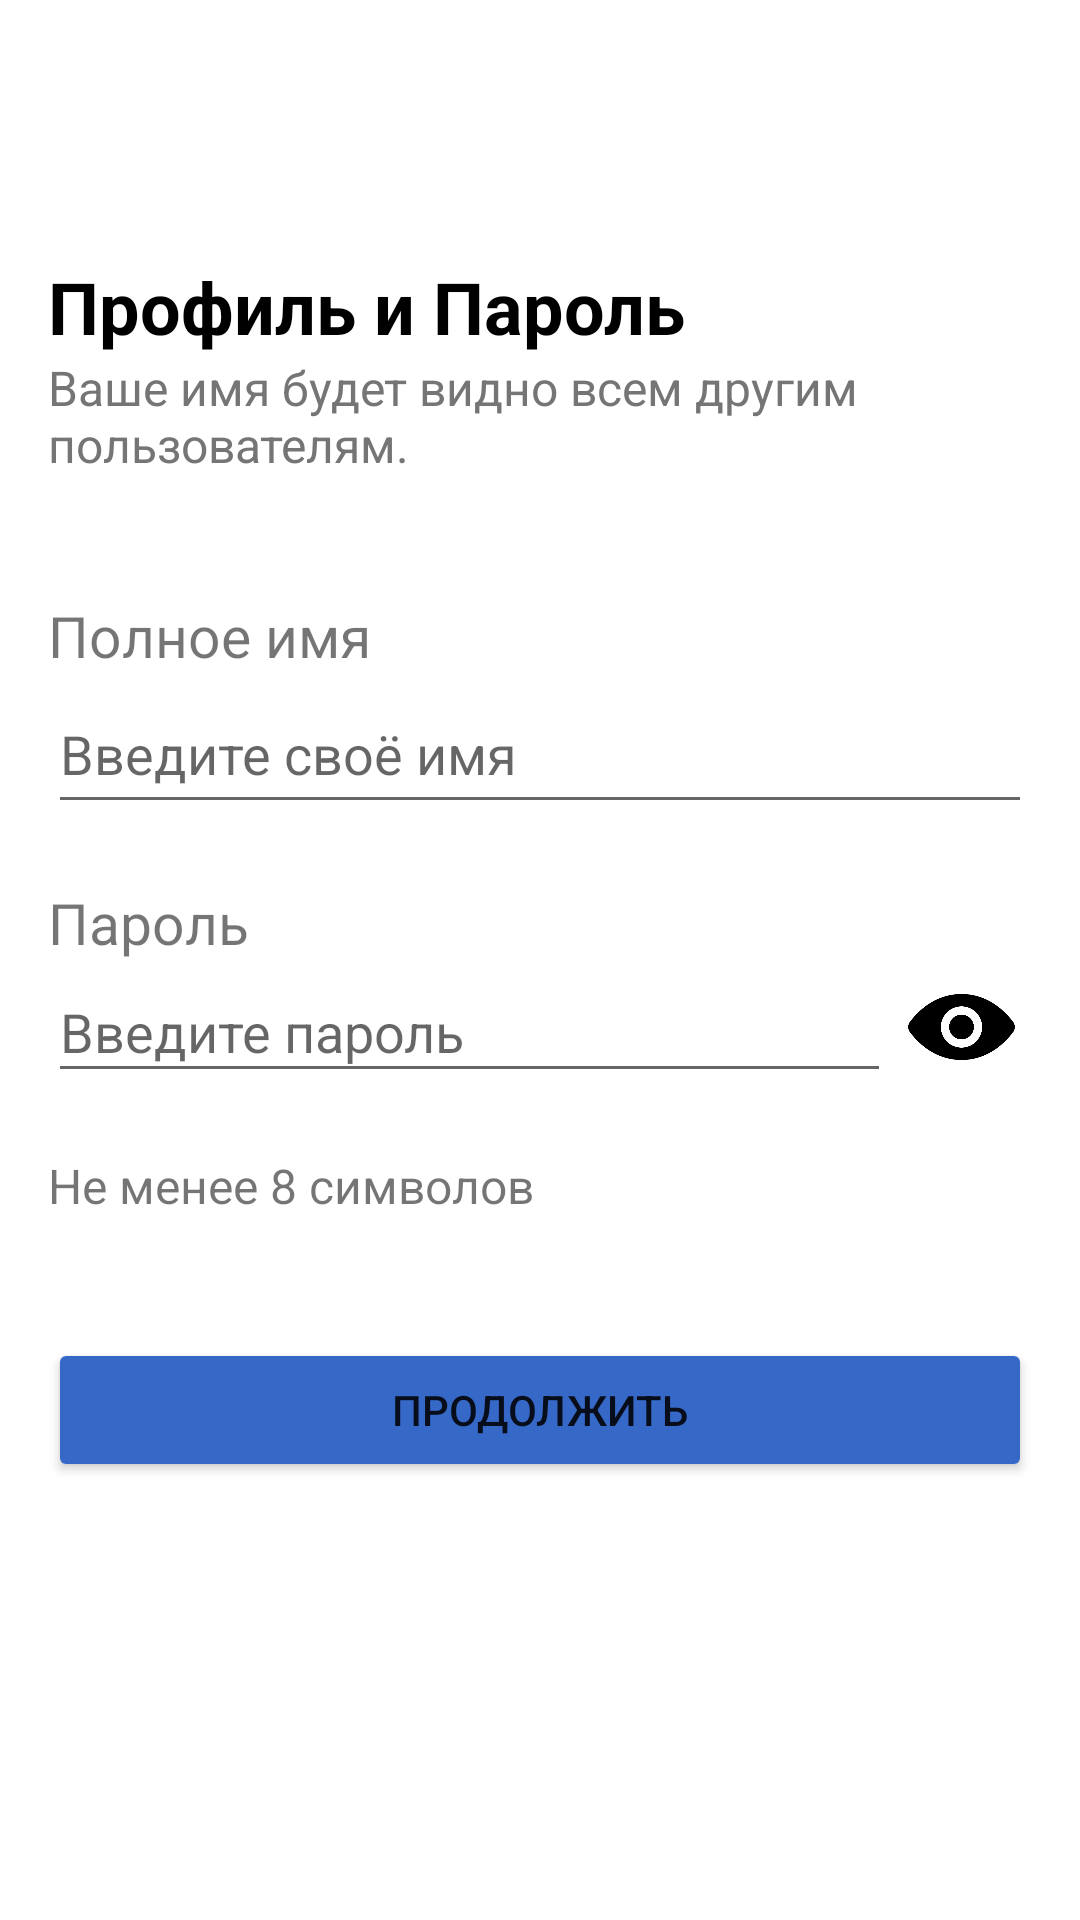

Icon click points for this 1080px x 1920px phone screenshot, format [x,y]:
eye: [961,1027]
